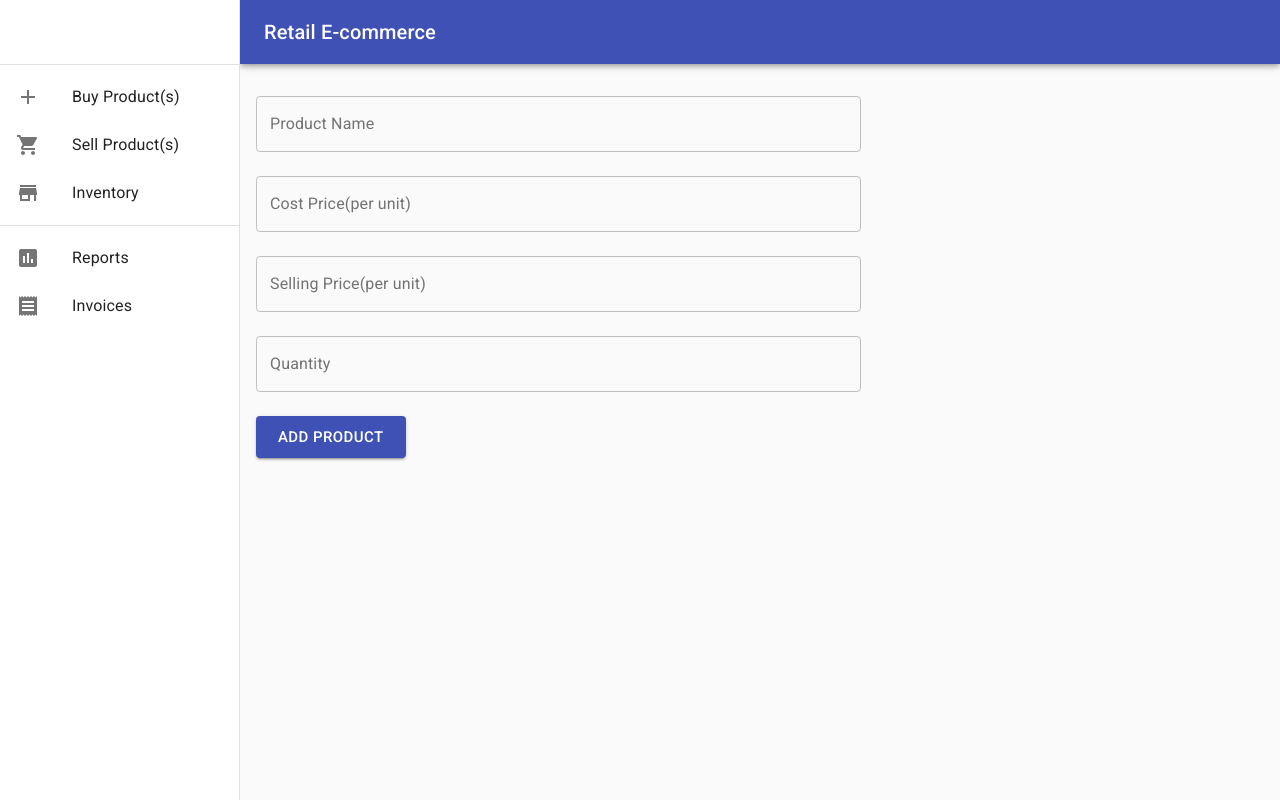
Scenario: App › should render page content
Click the button "Reports" at (72, 258), box [16, 246, 129, 270]
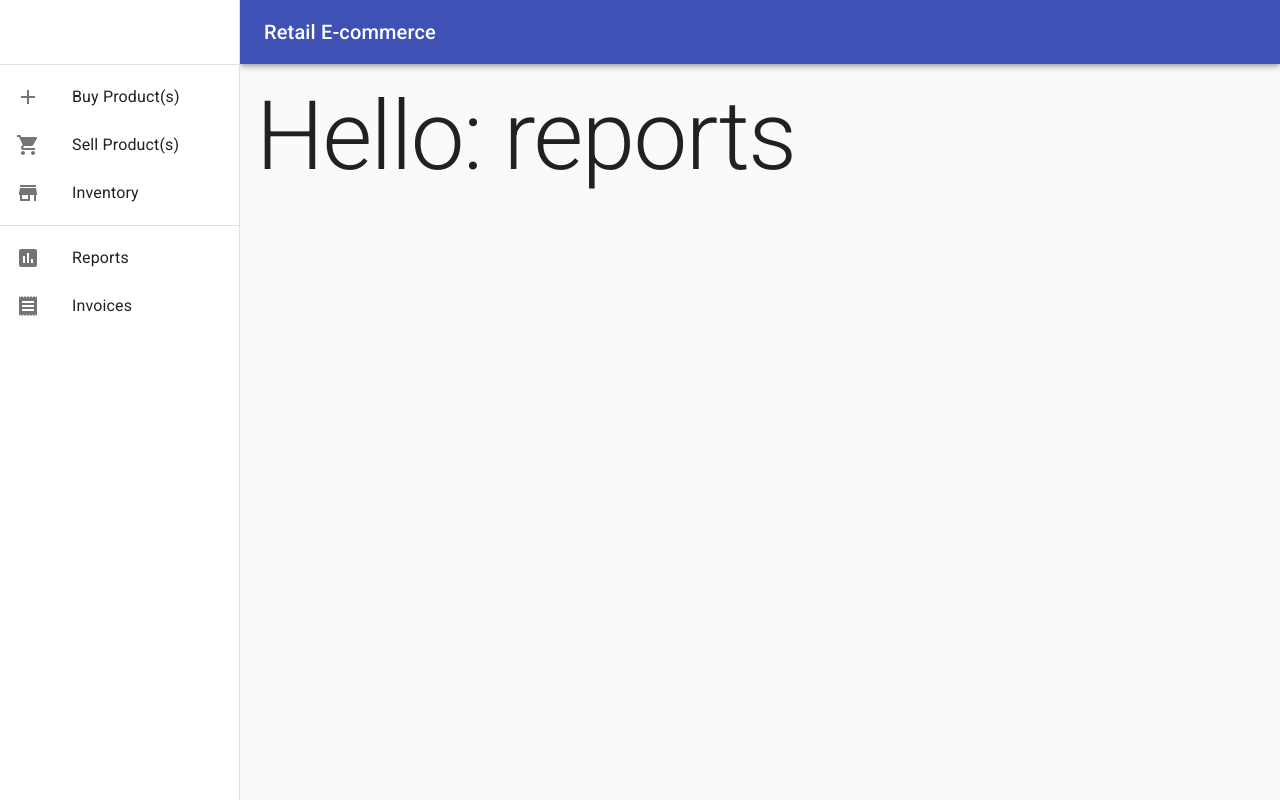
Expected: the number of headings "Hello: reports" is 1, [256, 80, 796, 192]
